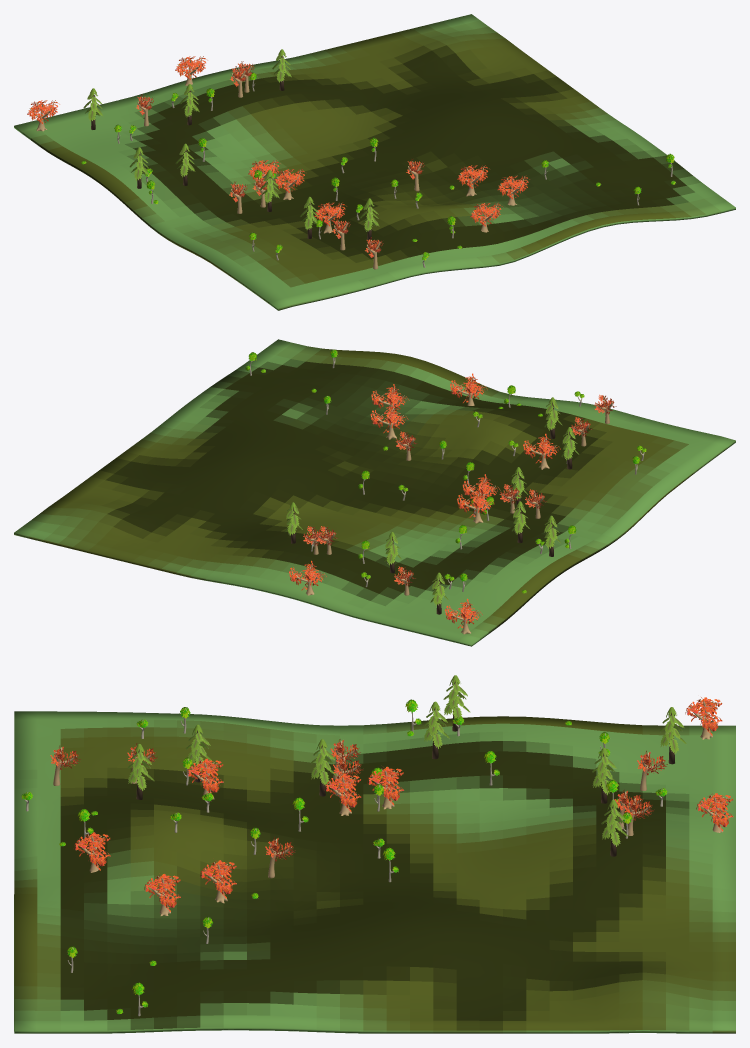
File: terrain.gltf
3 renders of one model, top to bottom at view 1: azimuth 30°, elevation 25°; view 2: azimuth 150°, elevation 25°; view 3: azimuth 270°, elevation 25°, orthographic. The views are drawn at different scales.
Parts seen in each view (by area): view 1: Plane, Cube.009, Cube.002, Cube.012, Cube.021, Cube.024, Cube.006, Cube.018; view 2: Plane, Cube.009, Cube.024, Cube.002, Cube.015, Cube.018, Cube.006, Cube.021; view 3: Plane, Cube.002, Cube.009, Cube.012, Cube.021, Cube.018, Cube.006, Cube.015, Cube.024, Cone.004, Cone.001, Cone.005 (+5 smaller).
Part boxes in pixels (x1,y1,x2,y2): Plane: (14, 14, 735, 310); Cube.009: (457, 165, 489, 196); Cube.002: (27, 100, 59, 131); Cube.012: (273, 169, 304, 199); Cube.021: (497, 175, 529, 205); Cube.024: (314, 202, 346, 233); Cube.006: (470, 202, 502, 232); Cube.018: (175, 56, 207, 85); Plane: (14, 339, 735, 646); Cube.009: (370, 403, 408, 439); Cube.024: (523, 433, 560, 469); Cube.002: (445, 599, 482, 634); Cube.015: (457, 488, 494, 523); Cube.018: (289, 560, 326, 595); Cube.006: (450, 373, 487, 405); Cube.021: (371, 384, 409, 417); Plane: (14, 711, 735, 1033); Cube.002: (685, 697, 722, 739); Cube.009: (200, 860, 236, 903); Cube.012: (324, 773, 361, 815); Cube.021: (144, 873, 180, 915); Cube.018: (696, 793, 733, 832); Cube.006: (73, 832, 110, 872); Cube.015: (367, 766, 403, 809); Cube.024: (186, 758, 223, 799); Cone.004: (423, 701, 450, 759); Cone.001: (601, 799, 628, 856); Cone.005: (127, 744, 154, 799).
Size of the model in its own units: 258 by 30.63 by 258.
6 materials, 2 textured.
